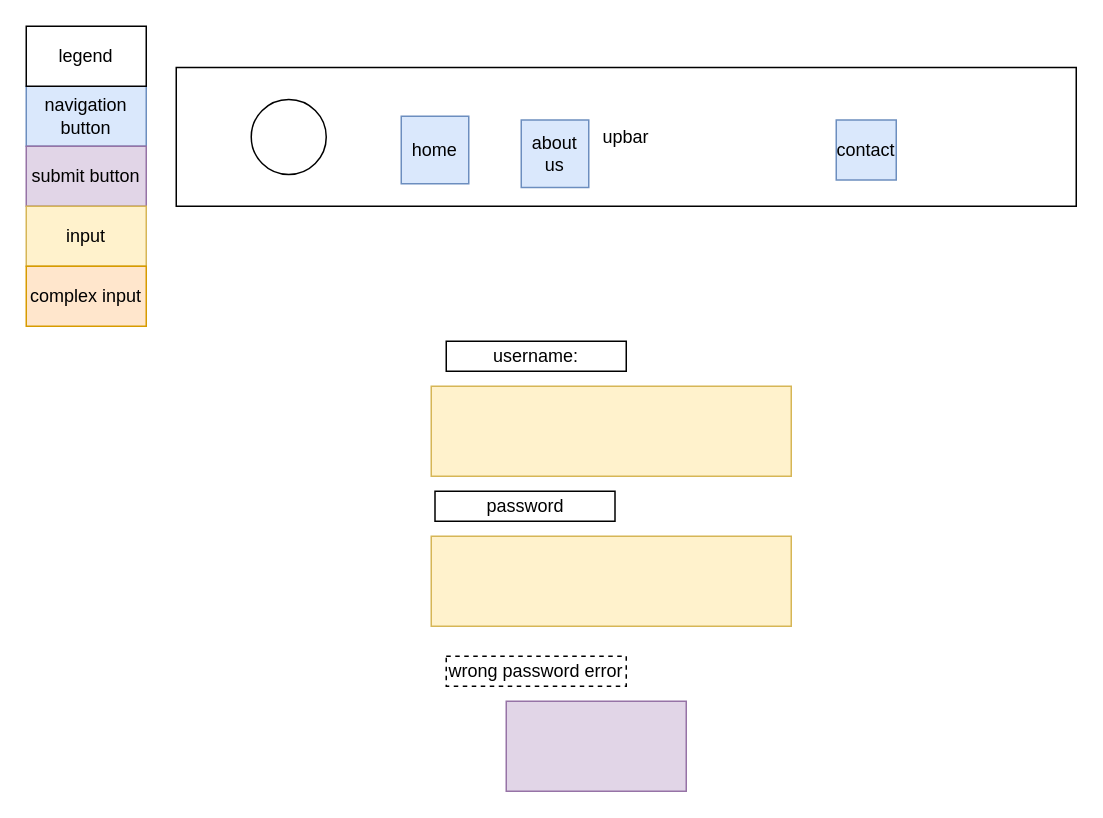
The diagram is 1103 pixels wide and 818 high, and some of its shapes have lost their labels. Here are the shapes that lost their labels. From the top down, the centre of each, then its label:
At (x=288, y=136): "logo".
At (x=595, y=745): "submit".
